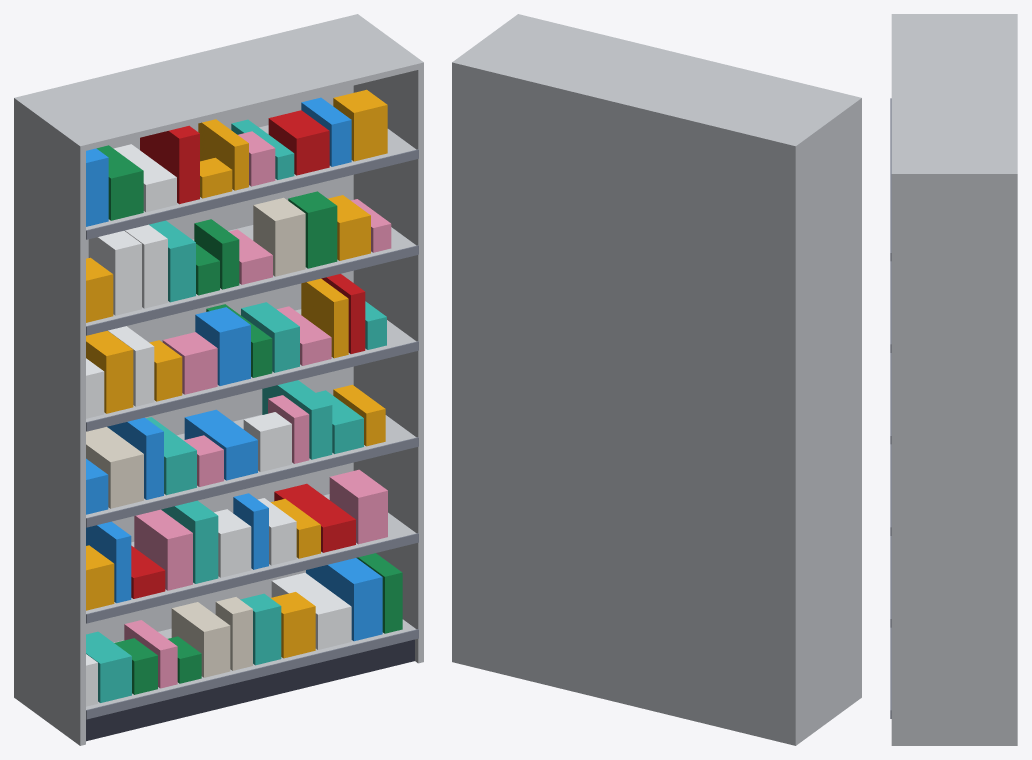
The model's file is hos-024.glb.
3 renders of one model, left to right at view 1: azimuth 30°, elevation 25°; view 2: azimuth 150°, elevation 25°; view 3: azimuth 270°, elevation 25°, orthographic. The views are drawn at different scales.
Visible parts, largest first — view 1: bed_frame, accent_amber, locker_grey, plastic_blue, white, accent_teal, chart_lanthanide, safety_green, paper, accent_red, dark_steel; view 2: bed_frame; view 3: bed_frame, locker_grey.
Part boxes in pixels (x1,y1,x2,y2): bed_frame: (14, 14, 423, 745); accent_amber: (86, 89, 387, 658); locker_grey: (86, 149, 418, 719); plastic_blue: (86, 97, 382, 641); white: (86, 144, 351, 706); accent_teal: (86, 119, 386, 702); chart_lanthanide: (124, 131, 391, 688); safety_green: (96, 145, 402, 694); paper: (86, 197, 305, 677); accent_red: (131, 110, 365, 598); dark_steel: (86, 639, 414, 741); bed_frame: (452, 14, 861, 745); bed_frame: (891, 14, 1017, 745); locker_grey: (890, 98, 891, 718).
Size of the model in its own units: 1.2 by 2 by 0.404.
